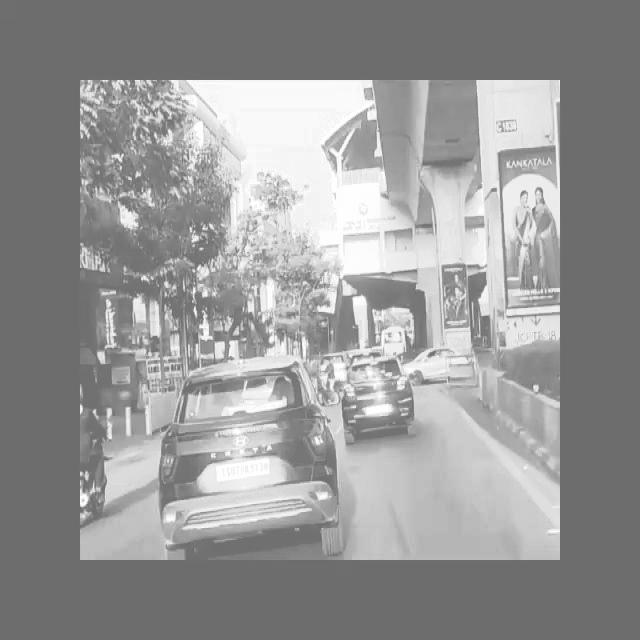Car: (156, 337, 344, 567), (336, 351, 421, 441), (422, 325, 472, 395)
